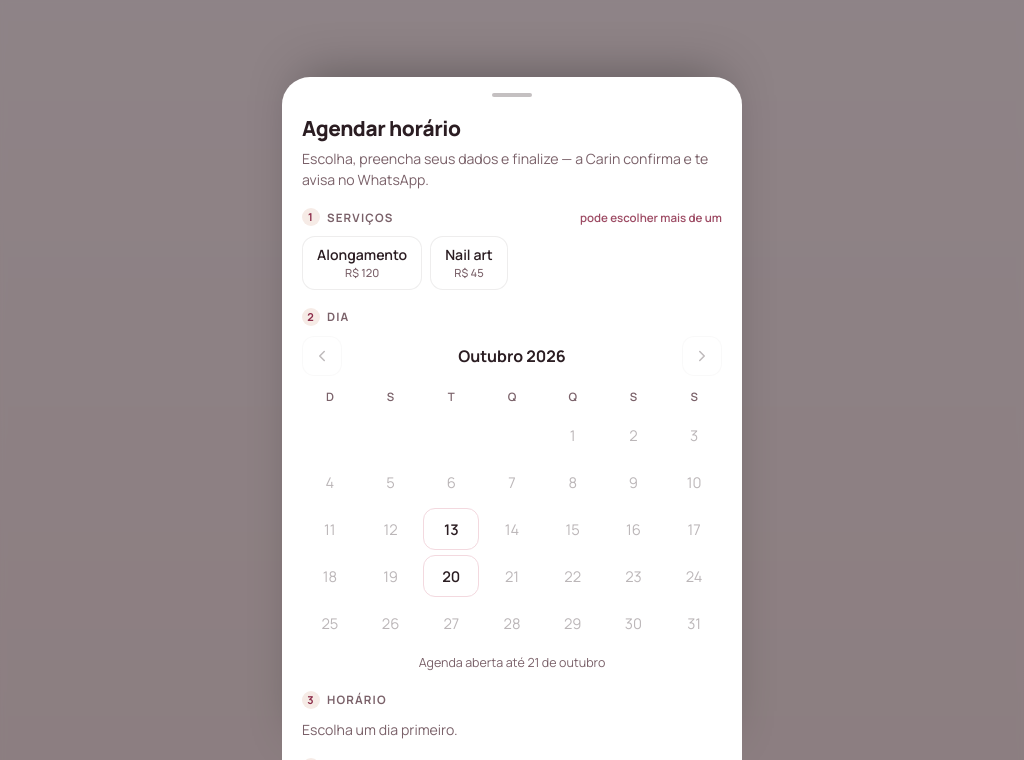
Sheet do site: dias e horários oferecidos › oferece os horários da tabela da Carin no dia certo da semana
This screenshot has width=1024, height=760.
Click the button "13": {"x": 451, "y": 529} [423, 508, 479, 550]
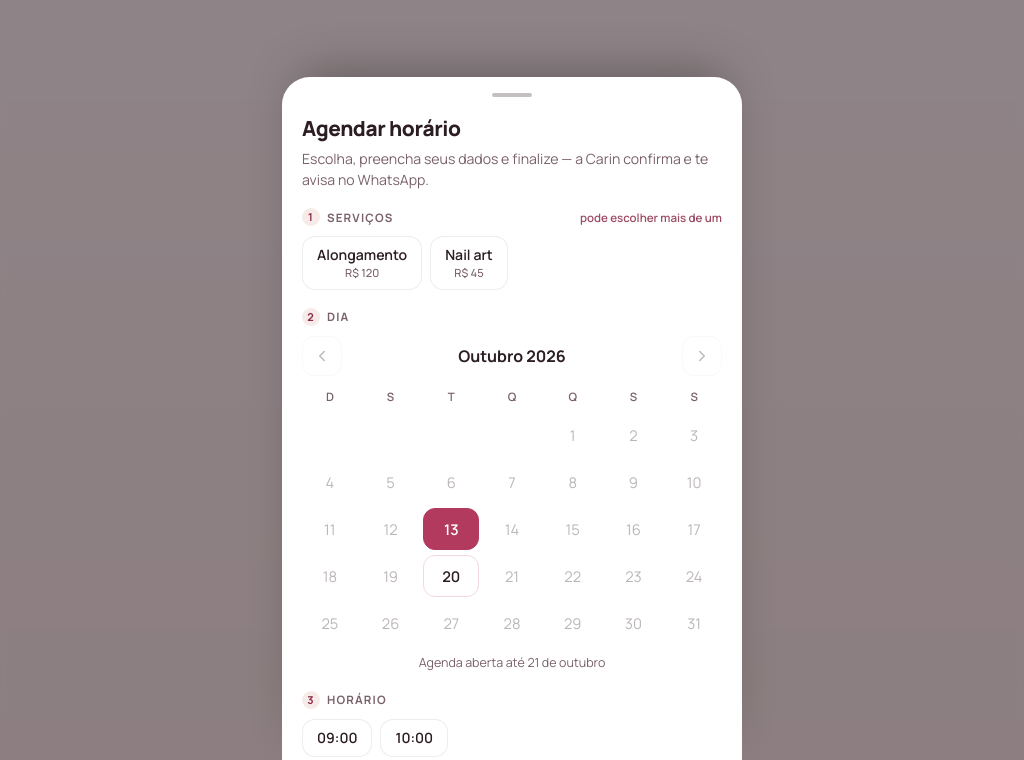
Now the button "09:00" is shown, box [302, 719, 372, 757]
Now the button "10:00" is shown, box [380, 719, 448, 757]
